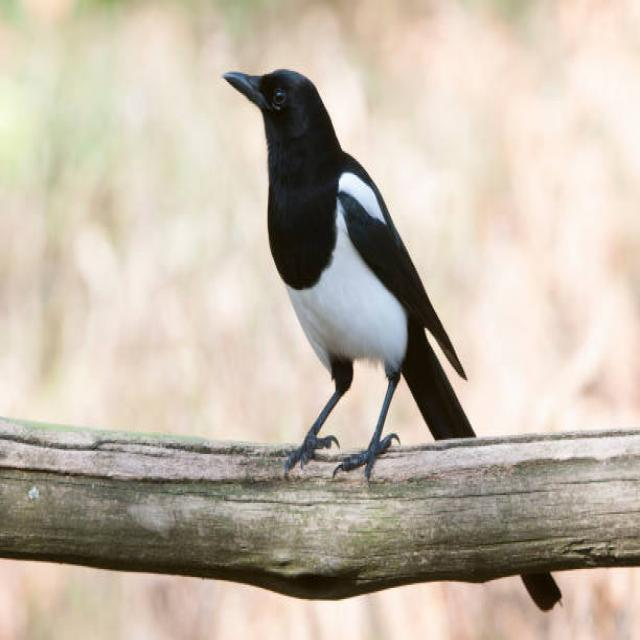Magpie: (220, 63, 564, 610)
